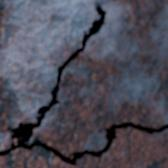brick: (30, 0, 167, 154), (0, 0, 98, 148), (0, 128, 167, 167)
crack: (0, 0, 167, 166)
